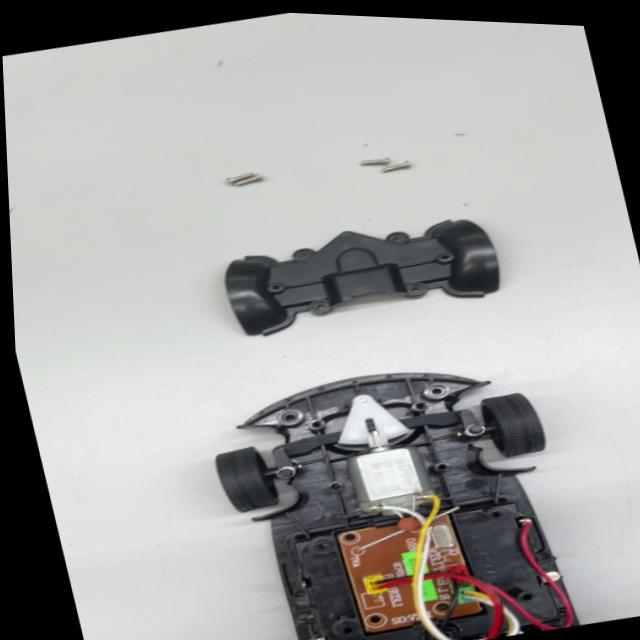Chassis: (196, 329, 605, 640)
motor: (327, 416, 448, 529)
motor_cover: (201, 194, 525, 364)
screw: (353, 147, 413, 186), (218, 166, 266, 199)
wheel: (203, 434, 292, 520), (476, 380, 549, 469)
